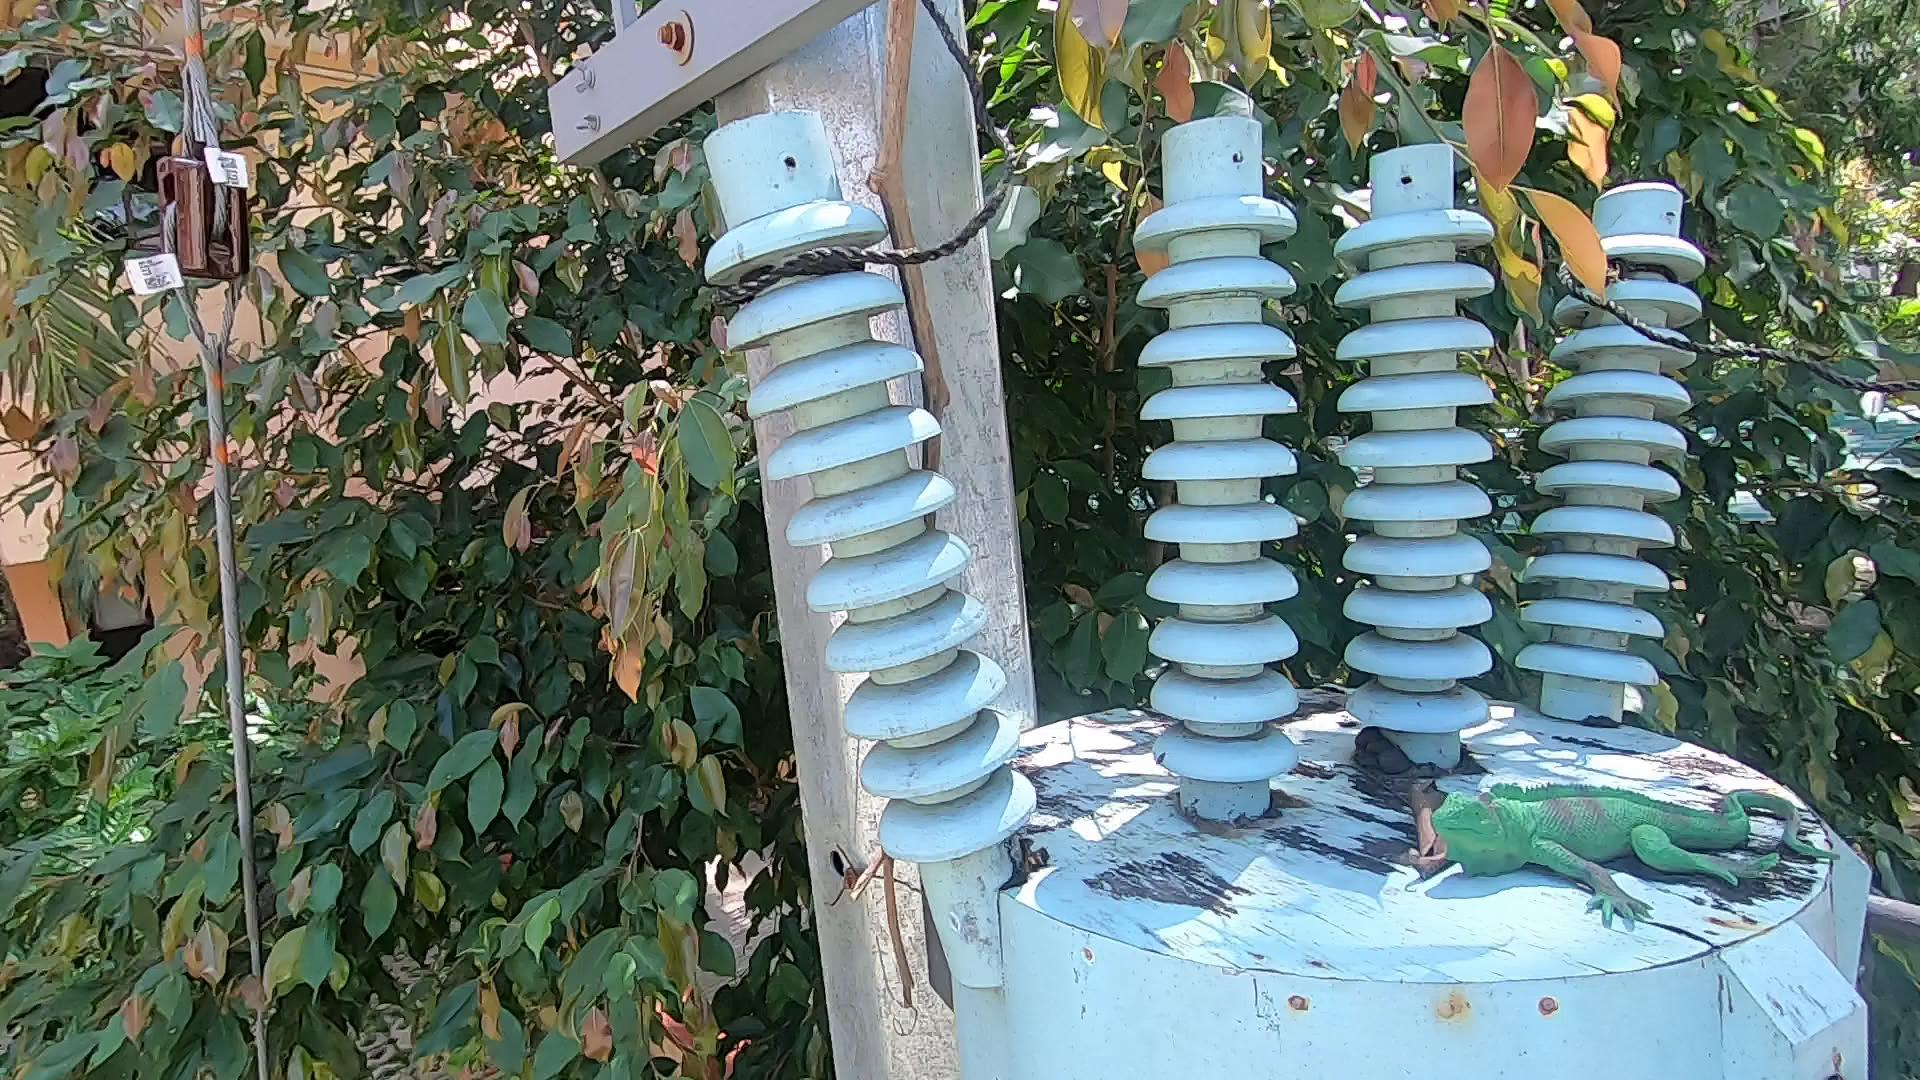branch with leaves: (1346, 103, 1636, 334)
leaf: (1349, 723, 1422, 789), (1399, 777, 1440, 891), (1004, 828, 1063, 903)
tree branch: (840, 7, 969, 1014)
